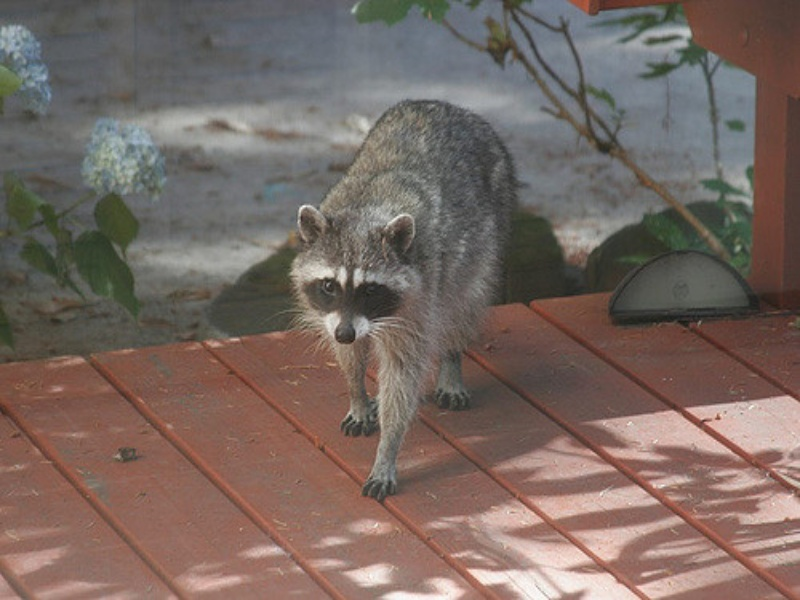raccoon: (294, 96, 518, 512)
